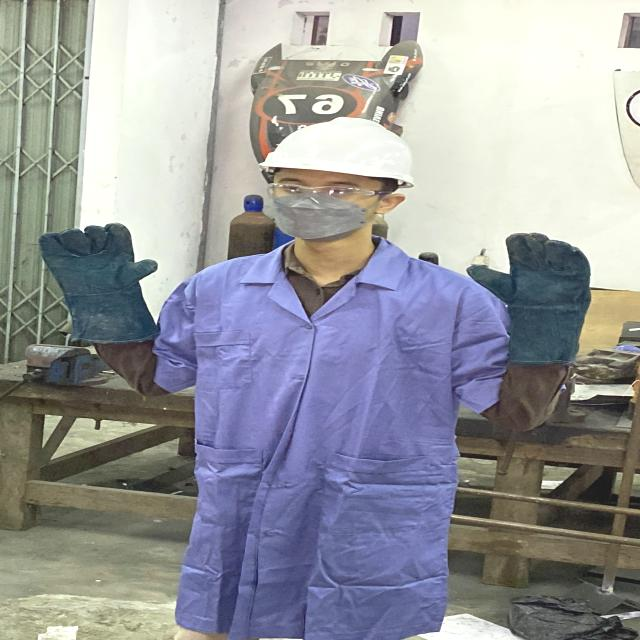face_mask: (262, 180, 378, 238)
glasses: (261, 179, 401, 206)
hand_glove: (459, 229, 598, 311), (26, 219, 170, 298)
head_helmet: (251, 112, 425, 184)
person: (19, 109, 608, 640)
